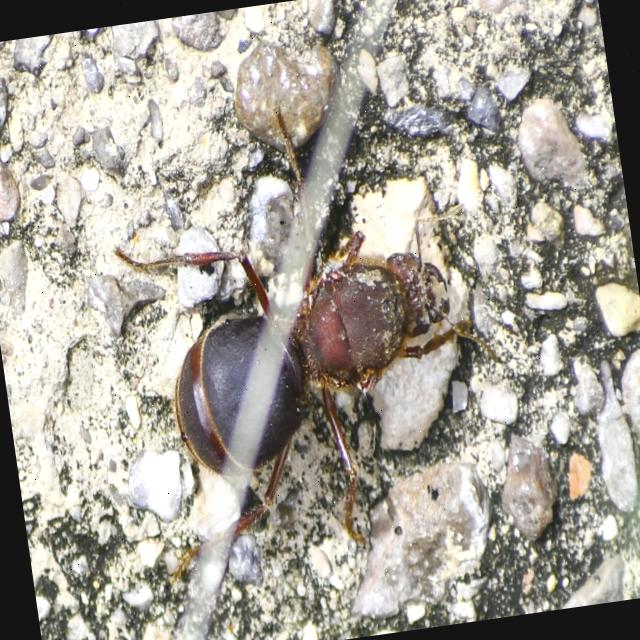Alive-Female-Dealate: (98, 80, 522, 587)
